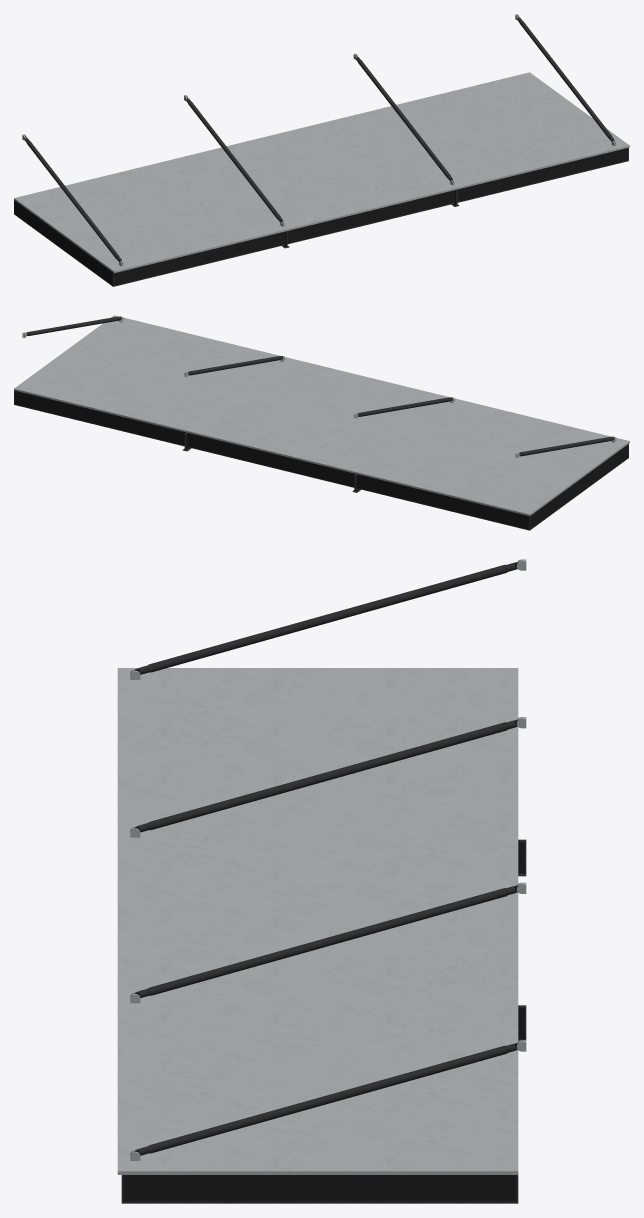
File: SM06_Building_Canopy_02.fbx
The picture shows the model from 3 angles, top to bottom: view 1: azimuth 30°, elevation 25°; view 2: azimuth 150°, elevation 25°; view 3: azimuth 270°, elevation 25°; orthographic projection. The views are drawn at different scales.
Parts seen in each view (by area): view 1: SM06_Building_Canopy_02; view 2: SM06_Building_Canopy_02; view 3: SM06_Building_Canopy_02.
Part boxes in pixels (left/top/right/bottom): SM06_Building_Canopy_02: left=14, top=14, right=629, bottom=286; SM06_Building_Canopy_02: left=14, top=315, right=629, bottom=530; SM06_Building_Canopy_02: left=117, top=559, right=526, bottom=1203.
Size of the model in its own units: 15 by 2.17 by 5.15.
